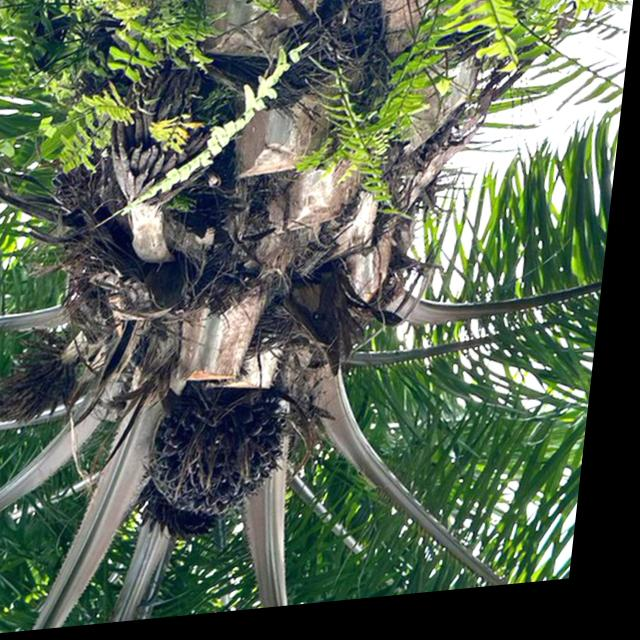ripe: (140, 374, 317, 542)
